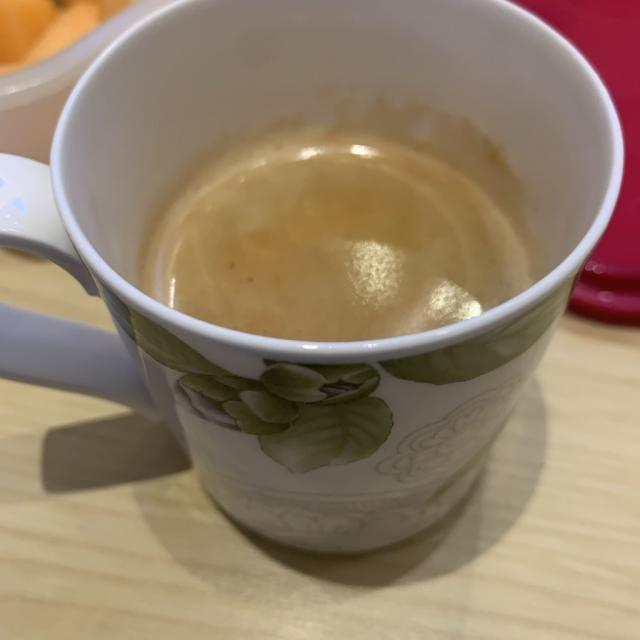coffee: (149, 114, 532, 336)
